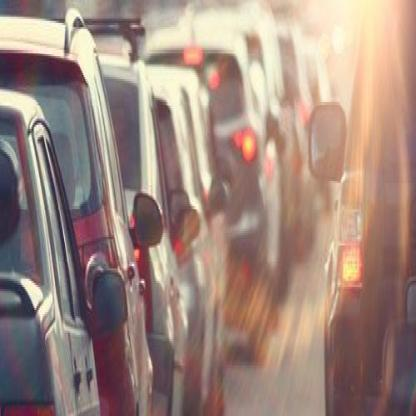other: (315, 1, 399, 115), (333, 222, 372, 294)
